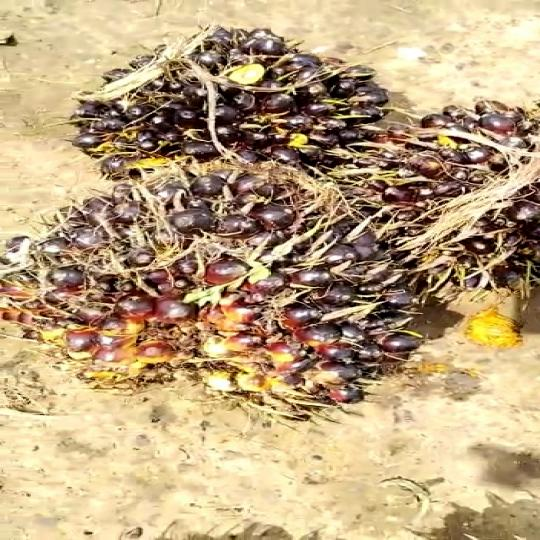mentah: (0, 176, 451, 420), (84, 22, 381, 177), (332, 104, 529, 305)
